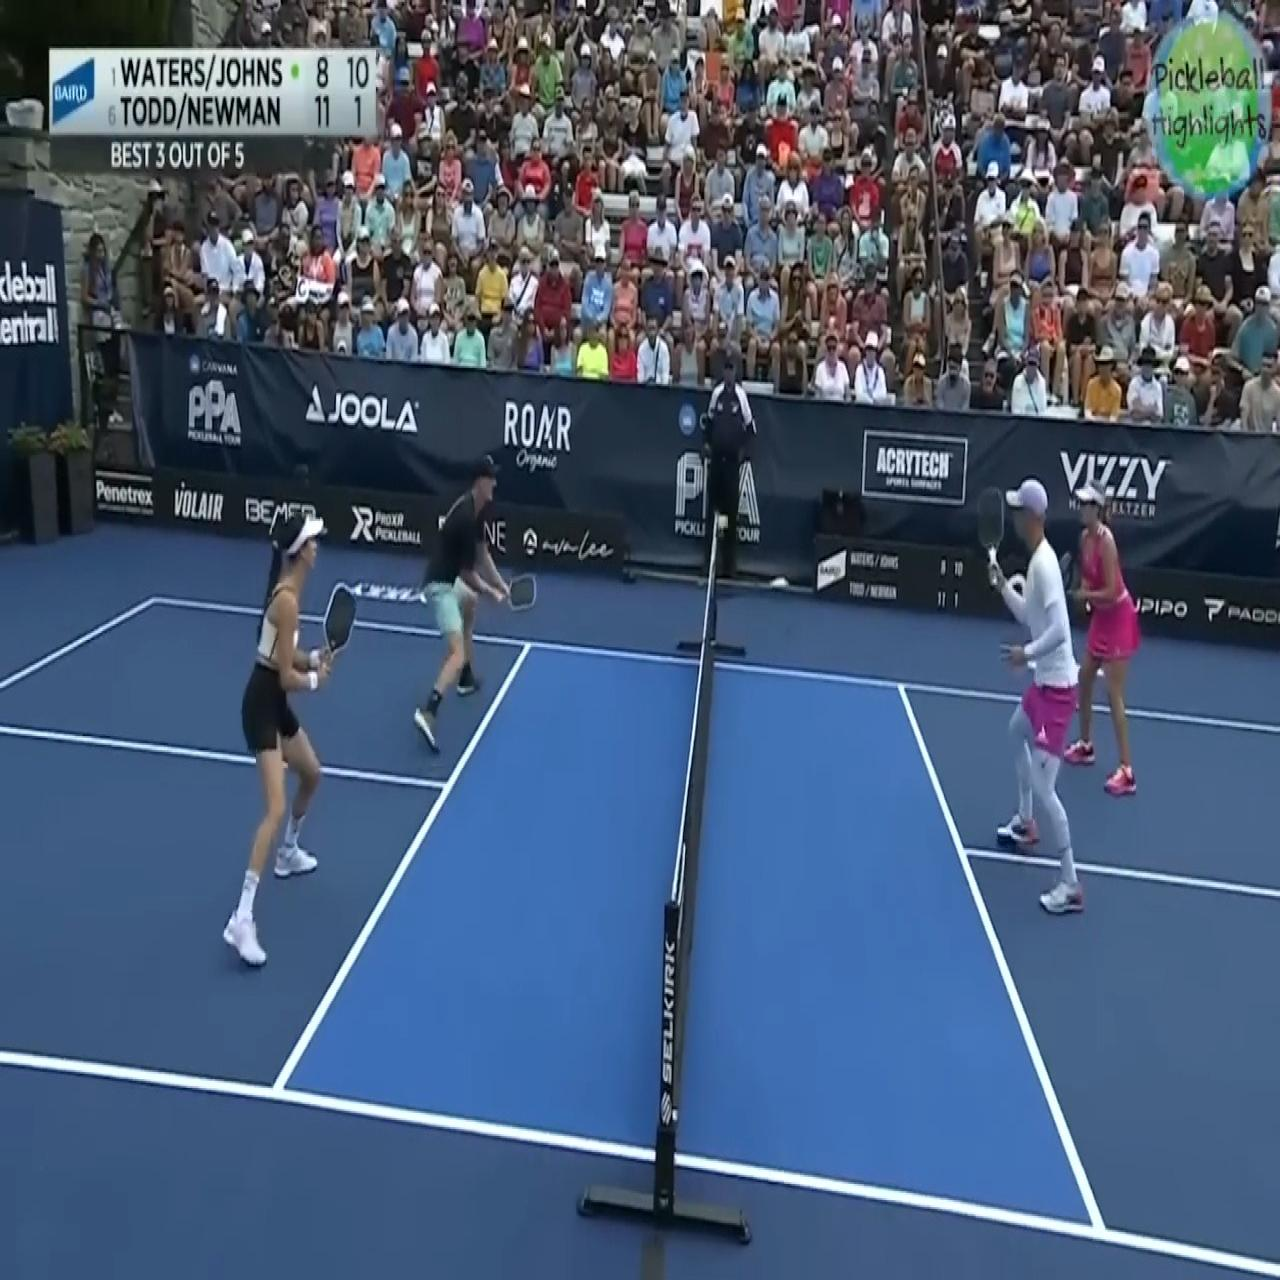Pickleball: (716, 506, 731, 542)
